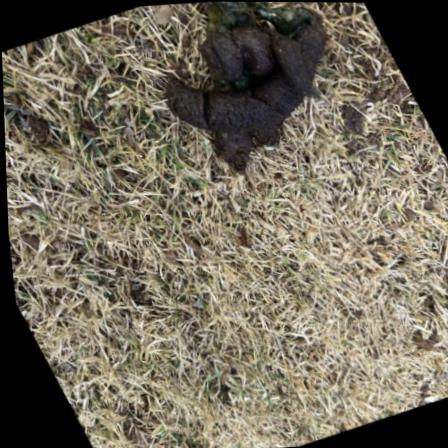dog-poop: (155, 1, 335, 175)
